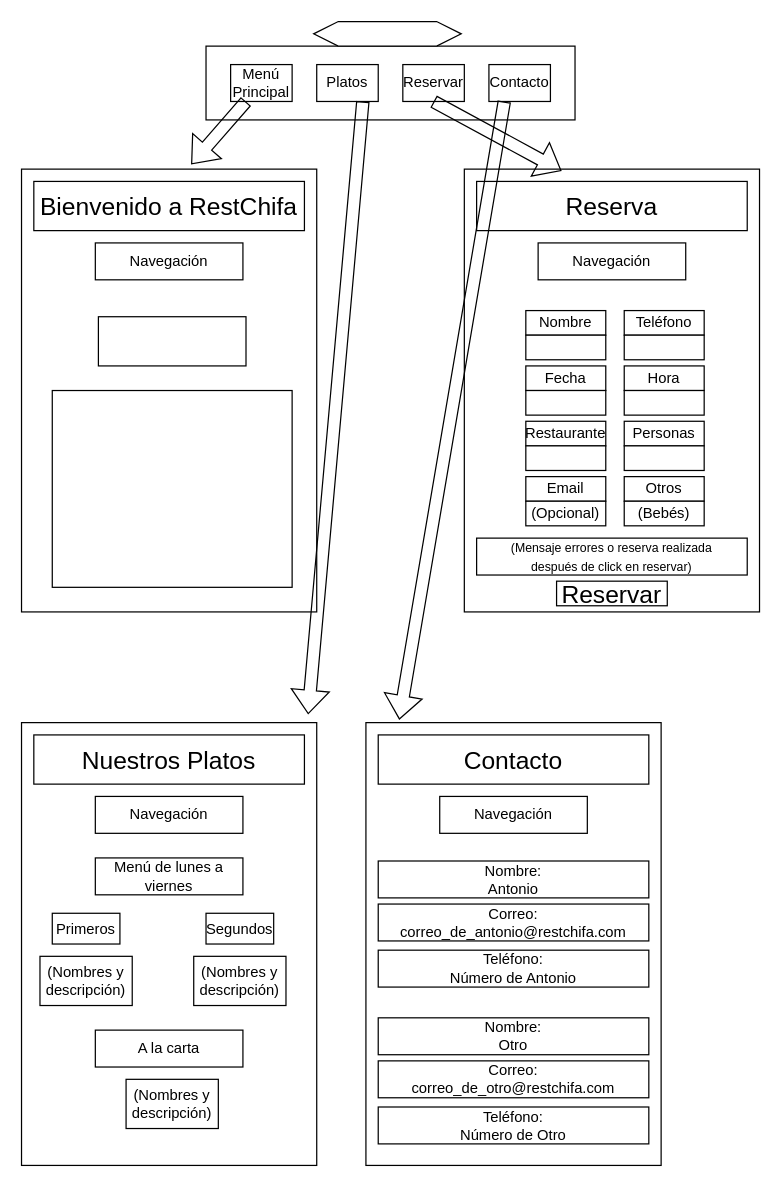
The diagram is 781 pixels wide and 1187 high, and some of its shapes have lost their labels. Each missing label, with the centre of its shape:
Nombre y fotos de platos recomendados: pixel 171 488
Platos recomendados: pixel 171 340
´Navegación: pixel 386 33
